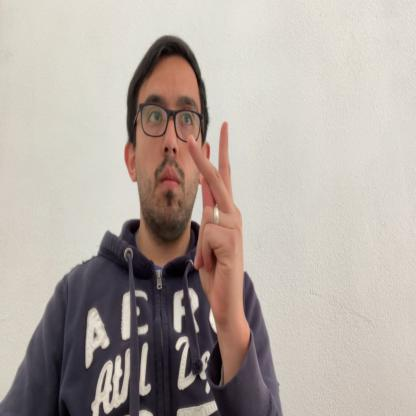P: (186, 122, 243, 326)
